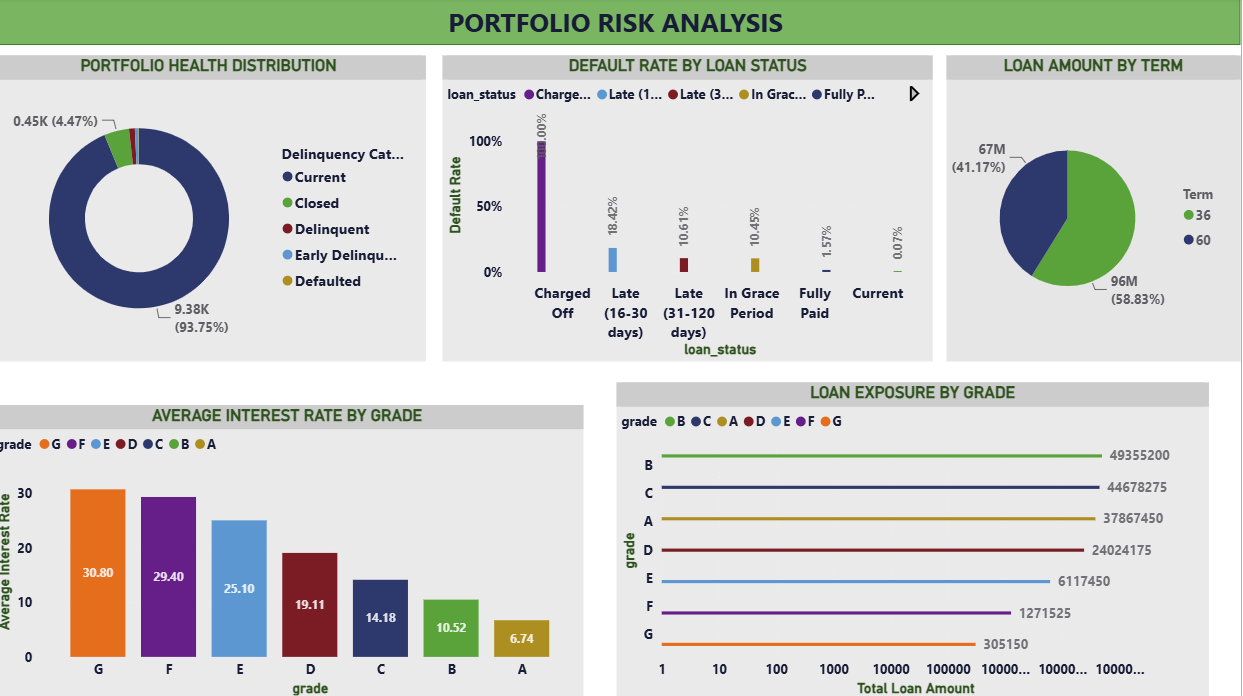

The page's visual inventory and layout, read from the dashboard file:
{"tool":"powerbi","page":{"name":"PORTFOLIO RISK ANALYSIS","canvas":[1280,720],"ordinal":4},"visuals":[{"type":"shape","box":[0,0,1279.5,49.2],"z":0},{"type":"donutChart","title":"PORTFOLIO HEALTH DISTRIBUTION","fields":{"Category":["CLEAN_DATASET.DelinquencyCategory"],"Y":["CountNonNull(CLEAN_DATASET.id)"]},"box":[0,59.9,445.4,313.3],"z":1},{"type":"clusteredColumnChart","title":"DEFAULT RATE BY LOAN STATUS","fields":{"Category":["CLEAN_DATASET.loan_status"],"Y":["CLEAN_DATASET.Default Rate"],"Series":["CLEAN_DATASET.loan_status"]},"box":[462.3,59.9,502.3,313.3],"z":2},{"type":"clusteredBarChart","title":"LOAN EXPOSURE BY GRADE","fields":{"Y":["CLEAN_DATASET.Total Loan Amount"],"Category":["CLEAN_DATASET.grade"],"Series":["CLEAN_DATASET.grade"]},"box":[640.5,394.8,606.7,325.6],"z":3},{"type":"columnChart","title":"AVERAGE INTEREST RATE BY GRADE","fields":{"Category":["CLEAN_DATASET.grade"],"Y":["CLEAN_DATASET.Average Interest Rate"],"Series":["CLEAN_DATASET.grade"]},"box":[0,417.8,606.7,302.6],"z":4},{"type":"pieChart","title":"LOAN AMOUNT BY TERM","fields":{"Y":["CLEAN_DATASET.Total Loan Amount"],"Category":["CLEAN_DATASET.term"]},"box":[978.4,59.9,301.1,313.3],"z":5}]}

Visuals, with their boxes in screenshot pixels (x1, y1, x2, y2), scaled from the page's 1280x720 canvas onto the 1243x696 screenshot:
shape: BBox(0, 0, 1242, 48)
"PORTFOLIO HEALTH DISTRIBUTION" donutChart: BBox(0, 58, 433, 361)
"DEFAULT RATE BY LOAN STATUS" clusteredColumnChart: BBox(449, 58, 937, 361)
"LOAN EXPOSURE BY GRADE" clusteredBarChart: BBox(622, 382, 1211, 695)
"AVERAGE INTEREST RATE BY GRADE" columnChart: BBox(0, 404, 589, 695)
"LOAN AMOUNT BY TERM" pieChart: BBox(950, 58, 1242, 361)
